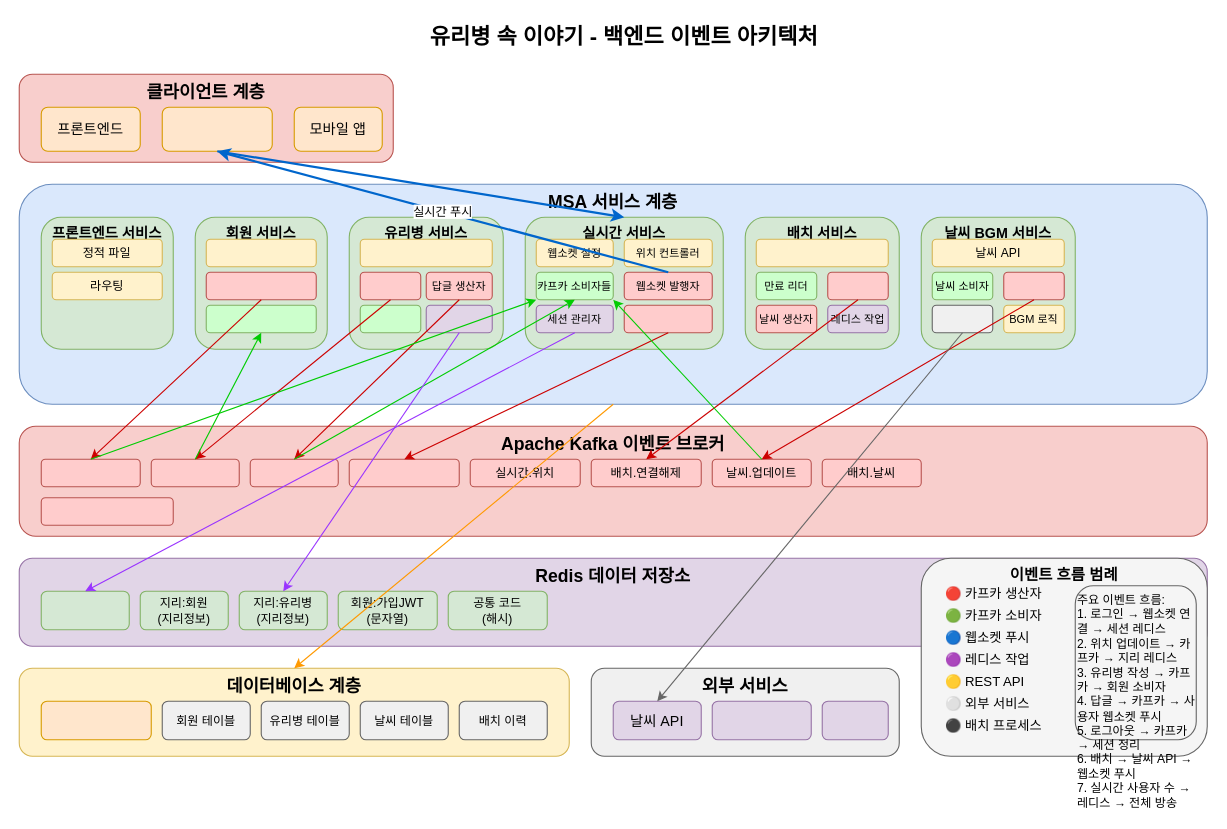
Some shapes in this 1227 by 829 pixel diagram are drawn without their labels. The centre of each missing label's shape, as x and y in pixels:
GEO 레디스: pixel 458 318
MySQL 데이터베이스: pixel 95 720
OAuth2 제공자: pixel 761 720
로그아웃 생산자: pixel 260 285
배치 작업: pixel 821 252
실시간 사용자 생산자: pixel 667 318
실시간.사용자수: pixel 403 472
외부 API: pixel 962 318
웹소켓 클라이언트: pixel 216 128
웹소켓 해제: pixel 857 285
웹소켓_세션 (정렬집합): pixel 84 610
유리병 API: pixel 425 252
유리병 소비자: pixel 260 318
유리병.답글: pixel 293 472
유리병.흐름: pixel 194 472
유리병.흐름.재실행: pixel 106 511
이벤트 생산자: pixel 1033 285
푸시 서비스: pixel 854 720
회원 API: pixel 260 252
회원.로그아웃: pixel 90 472
흐름 생산자: pixel 390 285
흐름 소비자: pixel 390 318
